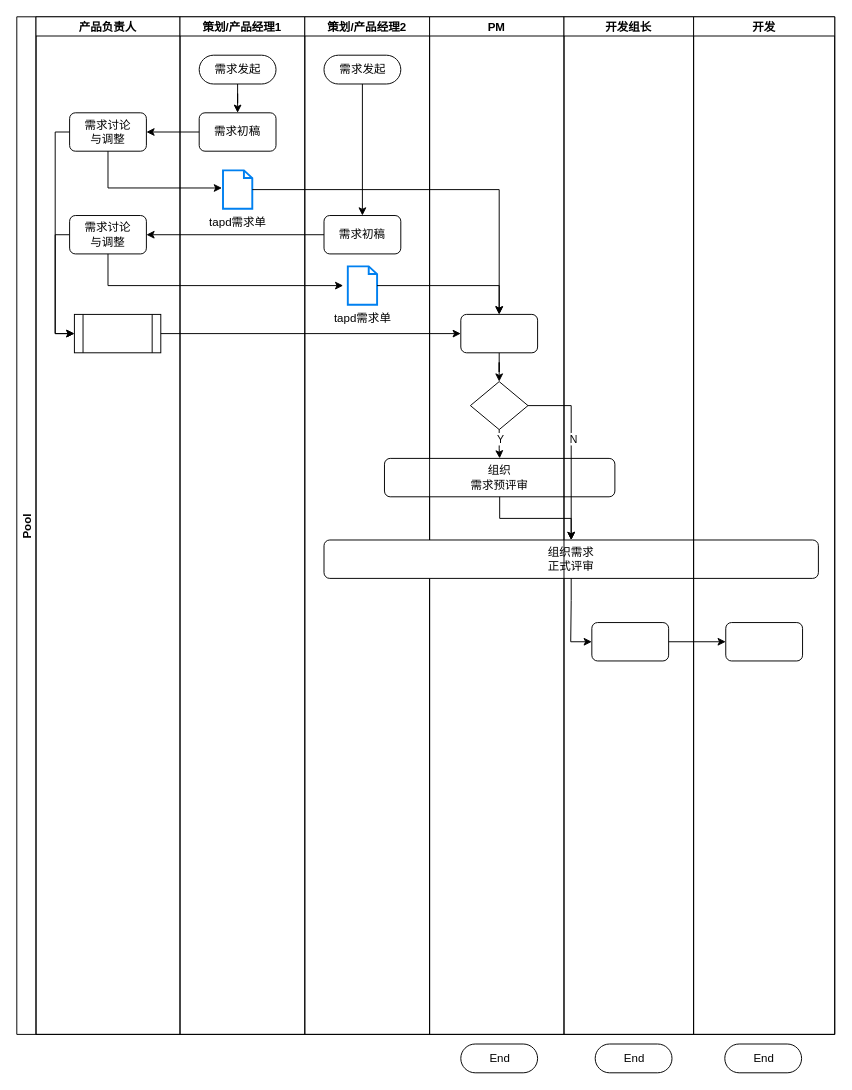
Image size: 852x1090. Some labels were removed from this diagram. Here are the shapes that lost their labels. From the top down, the centre of each, then its label:
(117,333): 确认优先级
(499,333): 需求接收
(498,405): 是否 复杂
(630,641): 技术方案讨论
(764,641): 评估工作量
